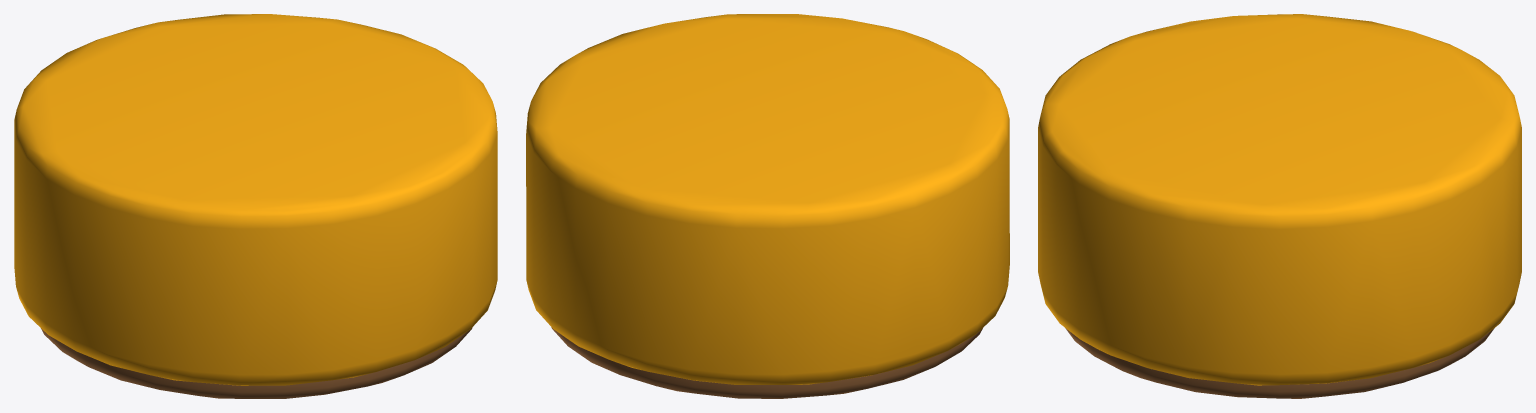
The model's file is stool_04_leather_yellow.fbx.
3 renders of one model, left to right at view 1: azimuth 30°, elevation 25°; view 2: azimuth 150°, elevation 25°; view 3: azimuth 270°, elevation 25°, orthographic.
Visible parts, largest first — view 1: stool_04_leather_yellow; view 2: stool_04_leather_yellow; view 3: stool_04_leather_yellow.
Part boxes in pixels (x1,y1,x2,y2): stool_04_leather_yellow: [14, 14, 497, 398]; stool_04_leather_yellow: [526, 14, 1009, 398]; stool_04_leather_yellow: [1038, 14, 1521, 398].
Bounding box in the file's own units: 86.76 × 38.97 × 86.76.
2 materials, 2 textured.
